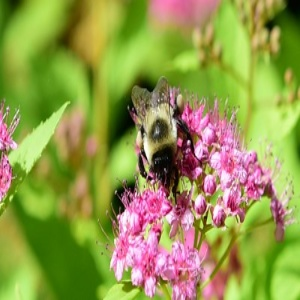bee: (130, 75, 202, 211)
